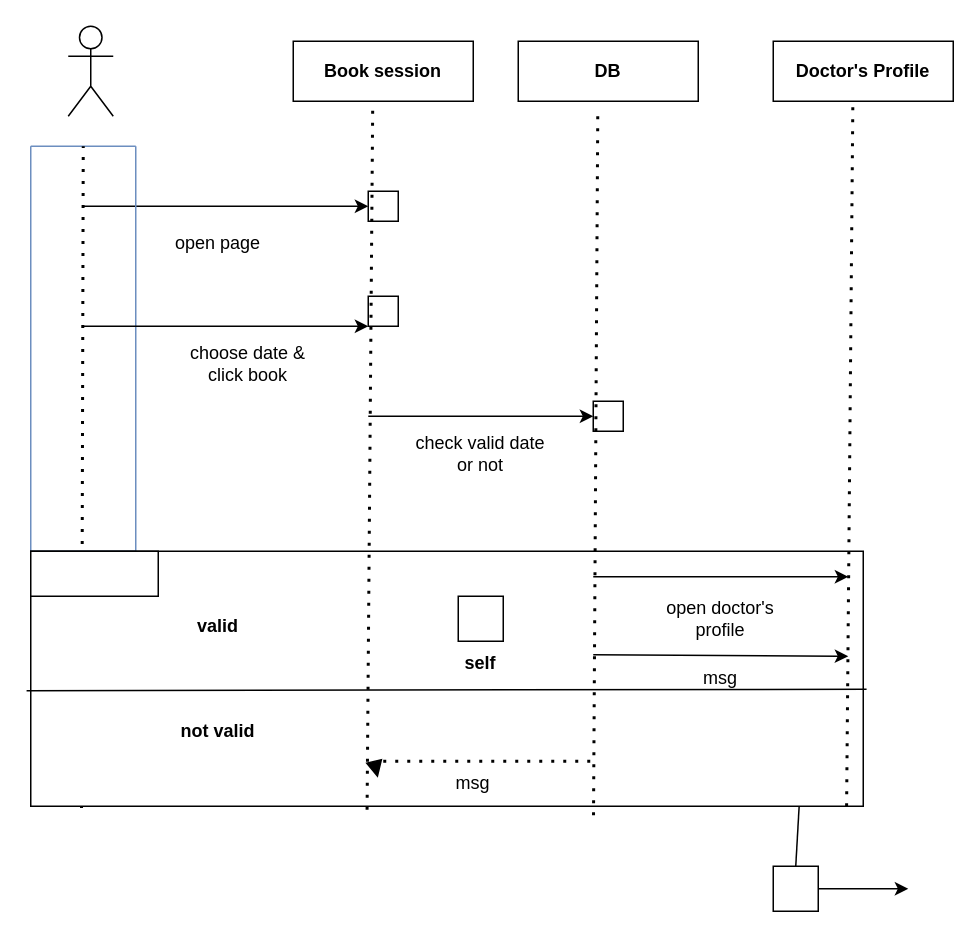
This 980x938 diagram has some shape labels left out. Here are the shapes that lost their labels. From the top down, the centre of each, then its label:
At point 90,70: "user".
At point 93,573: "alt".
